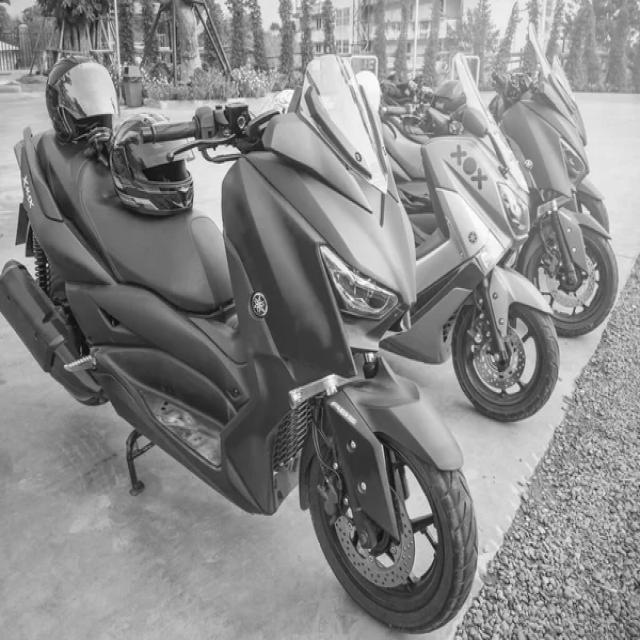Motorcycle: (0, 54, 478, 632), (382, 53, 560, 421), (490, 26, 620, 336)
